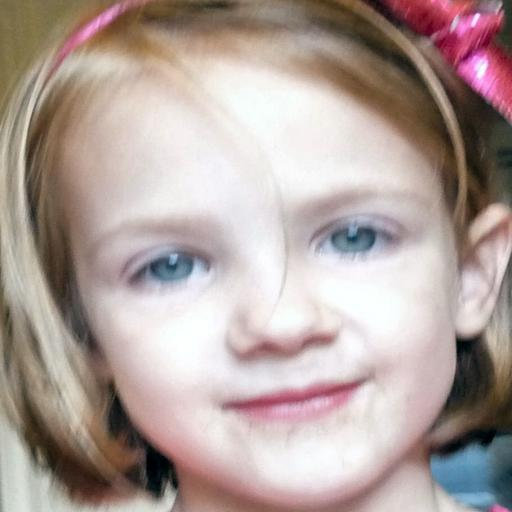Autism: (16, 14, 512, 508)
